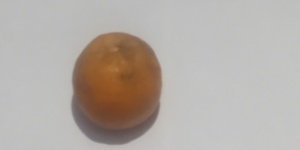BAD: (73, 29, 164, 136)
